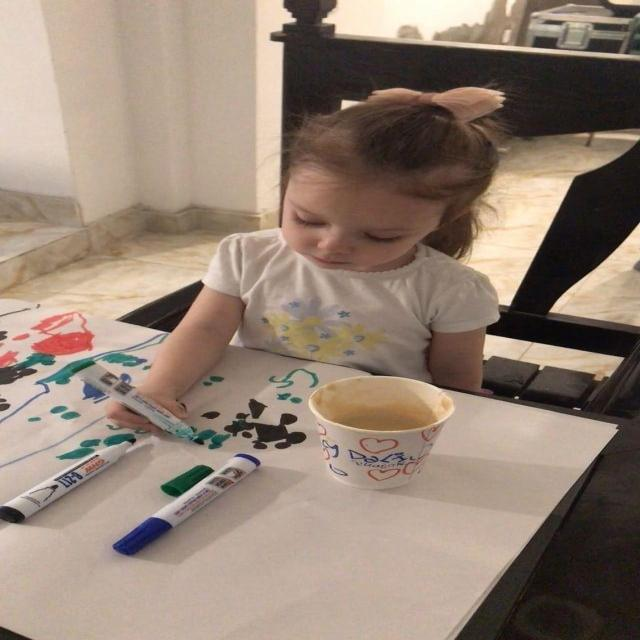cup-disposable: (308, 373, 462, 492)
